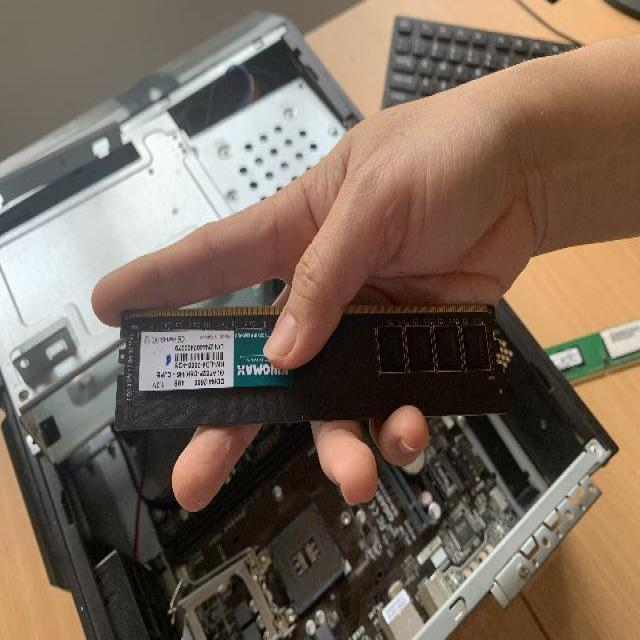RAM: (110, 299, 512, 432), (543, 309, 640, 384)
